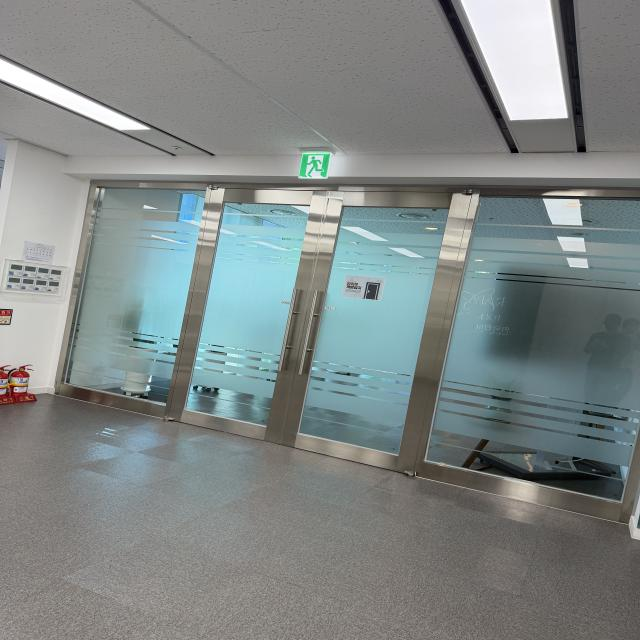front_door: (45, 183, 639, 530)
